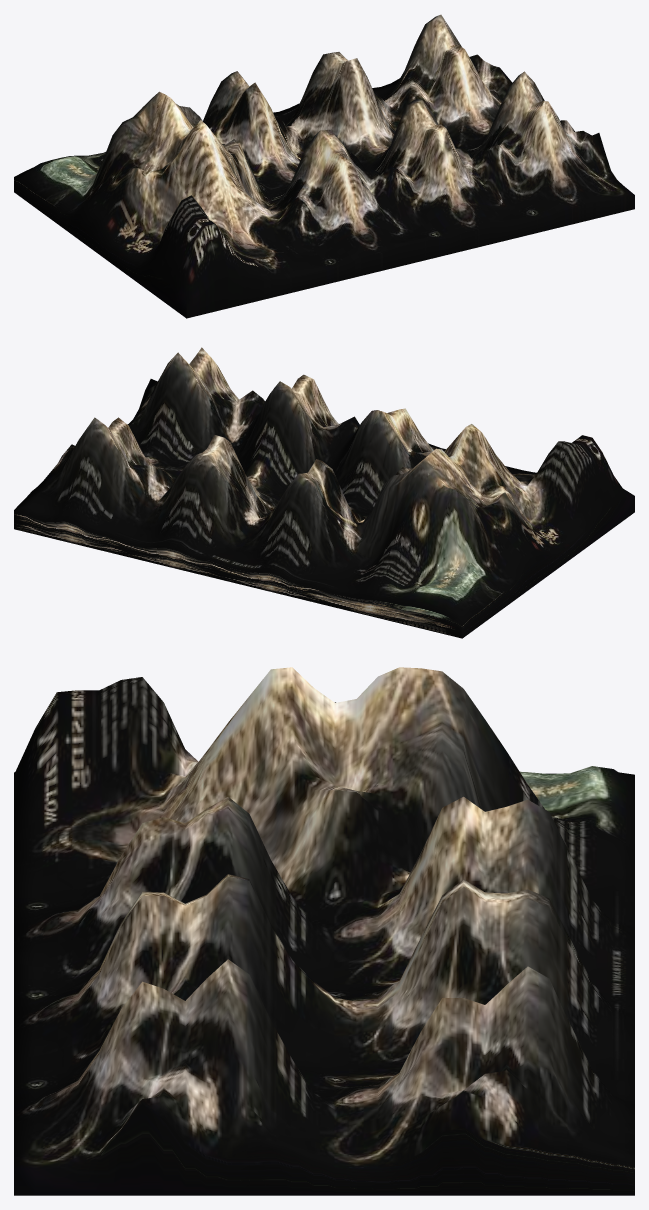
Rendered from CUL_07_Bone_Marrow_Cleansing.glb.
3 views of the same model, one above another, from view 1: azimuth 30°, elevation 25°; view 2: azimuth 150°, elevation 25°; view 3: azimuth 270°, elevation 25° (orthographic). The views are drawn at different scales.
Parts seen in each view (by area): view 1: CUL_07_Bone_Marrow_Cleansing; view 2: CUL_07_Bone_Marrow_Cleansing; view 3: CUL_07_Bone_Marrow_Cleansing.
Part boxes in pixels (box(x1,y1,x2,y2)): CUL_07_Bone_Marrow_Cleansing: box(14, 14, 634, 318); CUL_07_Bone_Marrow_Cleansing: box(14, 347, 634, 638); CUL_07_Bone_Marrow_Cleansing: box(14, 667, 634, 1195).
Bounding box in the file's own units: 2 × 0.51 × 1.33.
1 material, 1 textured.
